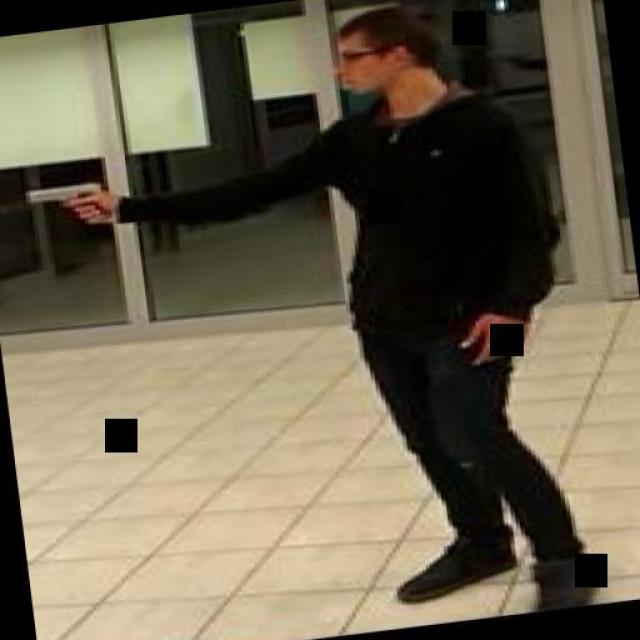gun: (13, 175, 108, 233)
